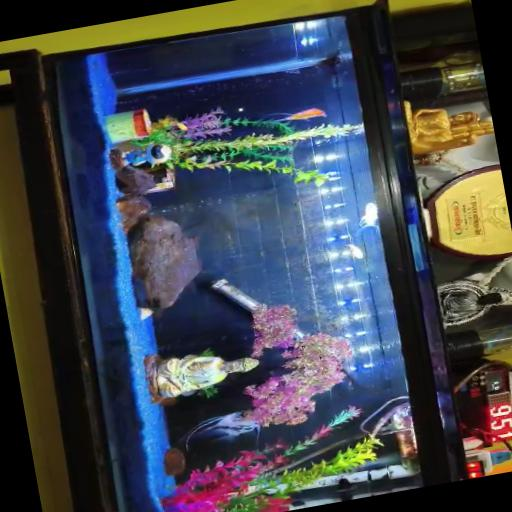Fish: (178, 411, 260, 452), (269, 108, 326, 123), (359, 203, 377, 228), (345, 244, 362, 259)
